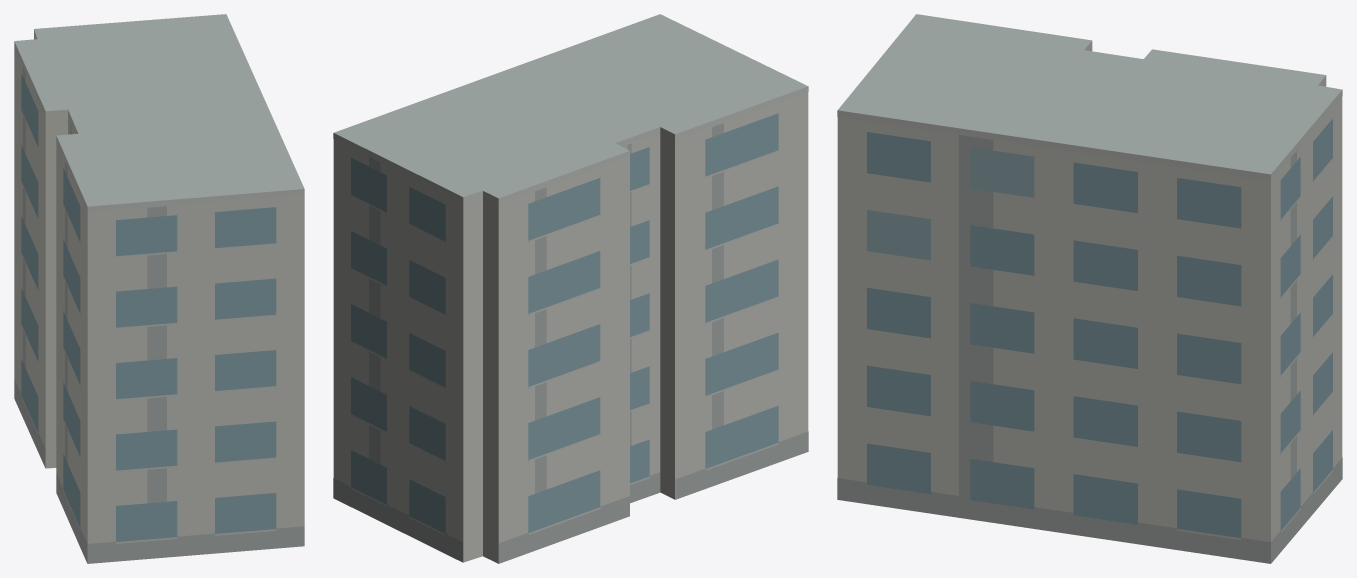
File: survey-upis-32889180.glb
3 renders of one model, left to right at view 1: azimuth 30°, elevation 25°; view 2: azimuth 150°, elevation 25°; view 3: azimuth 270°, elevation 25°, orthographic. The views are drawn at different scales.
Visible parts, largest first — view 1: survey-upis-32889180.tmp; view 2: survey-upis-32889180.tmp; view 3: survey-upis-32889180.tmp.
Boxes of the visible parts, <box> form: survey-upis-32889180.tmp: <box>14,14,304,563</box>; survey-upis-32889180.tmp: <box>333,14,808,563</box>; survey-upis-32889180.tmp: <box>837,14,1342,563</box>.
Size of the model in its own units: 12.64 by 14.3 by 16.81.
